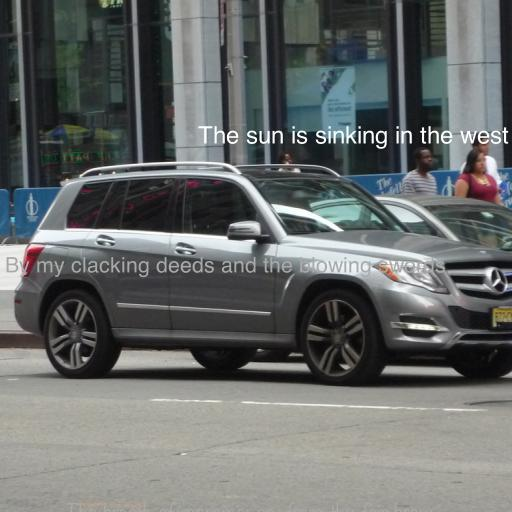Apple Chancery: (197, 126, 509, 149)
Noteworthy: (65, 502, 433, 512)
SignPainter: (4, 257, 446, 278)
